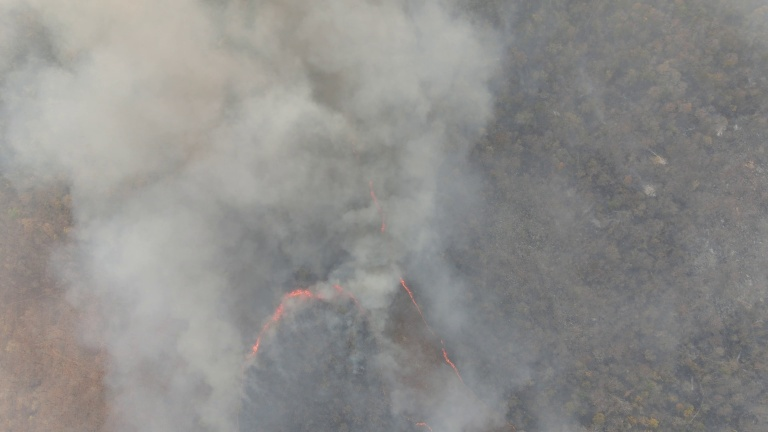fire: (253, 277, 360, 373)
smoke: (26, 8, 256, 419), (220, 4, 475, 247), (395, 271, 474, 397), (345, 131, 391, 247), (411, 419, 436, 432)
